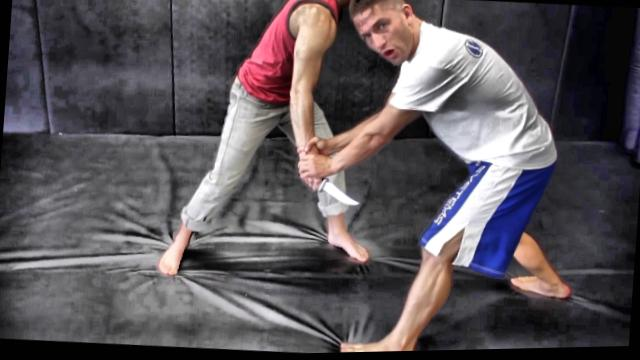knife: (294, 168, 364, 214)
